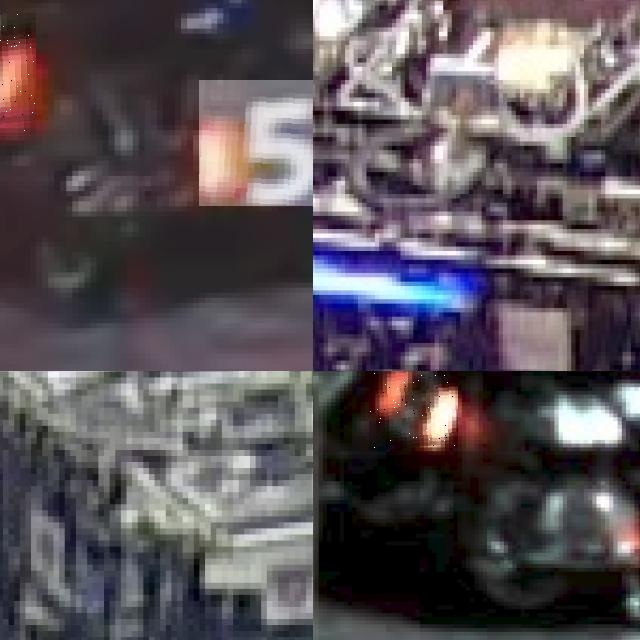R5: (199, 79, 313, 206), (0, 13, 36, 135)
Rs: (369, 371, 457, 451)
